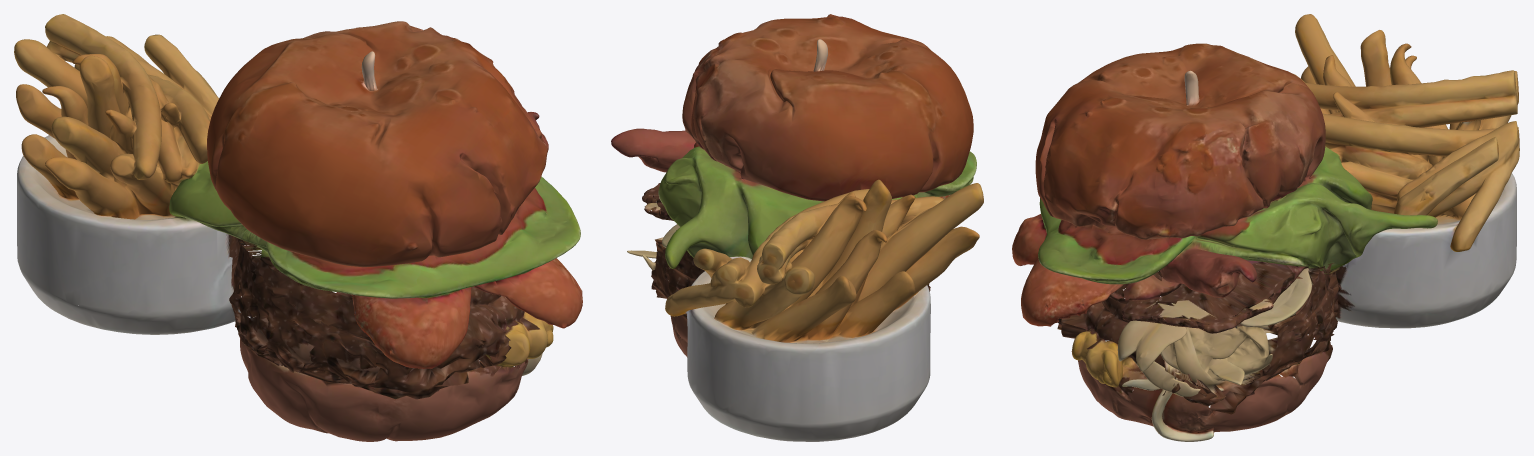
The model's file is melody-burger.glb.
The picture shows the model from 3 angles, left to right: view 1: azimuth 30°, elevation 25°; view 2: azimuth 150°, elevation 25°; view 3: azimuth 270°, elevation 25°; orthographic projection. The views are drawn at different scales.
Visible parts, largest first — view 1: tripo_node_3b7c3b1b-da98-4558-8b93-78f36b92729a; view 2: tripo_node_3b7c3b1b-da98-4558-8b93-78f36b92729a; view 3: tripo_node_3b7c3b1b-da98-4558-8b93-78f36b92729a.
Part boxes in pixels (bbox=[...]): tripo_node_3b7c3b1b-da98-4558-8b93-78f36b92729a: bbox=[14, 14, 582, 441]; tripo_node_3b7c3b1b-da98-4558-8b93-78f36b92729a: bbox=[611, 14, 983, 441]; tripo_node_3b7c3b1b-da98-4558-8b93-78f36b92729a: bbox=[1012, 14, 1519, 441].
Size of the model in its own units: 0.8925 by 0.667 by 0.9786.
Materials: 1 (1 with a texture image).
